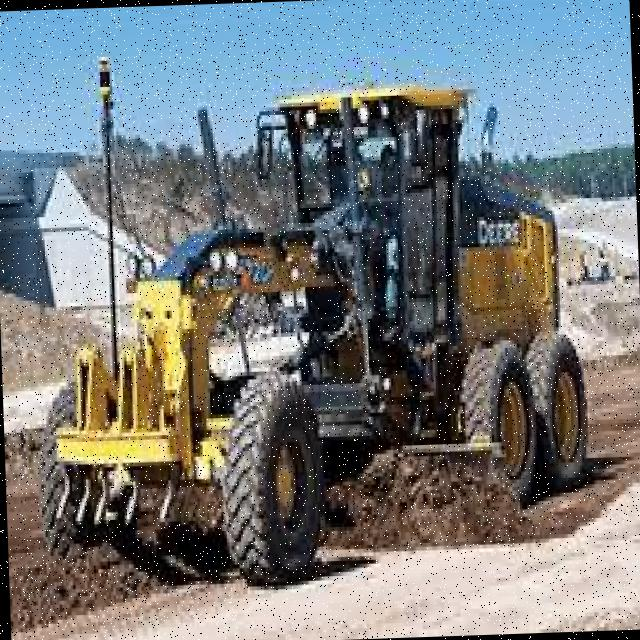Grader: (21, 36, 619, 604)
